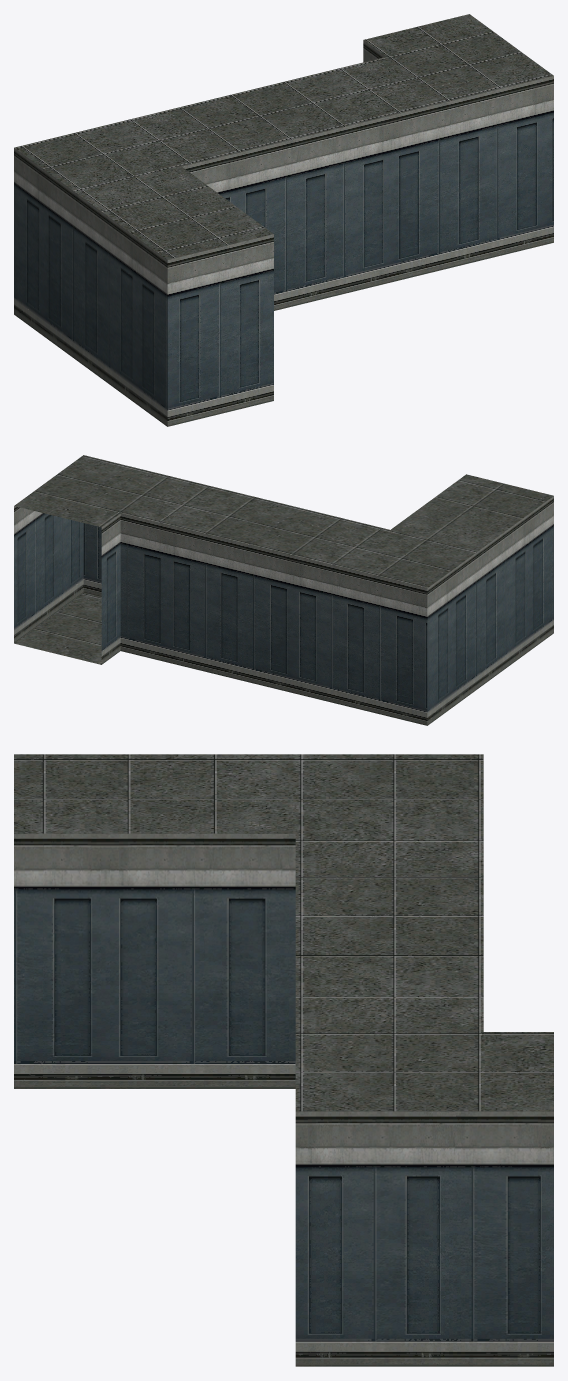
File: thm_corl_imprv_building_block_64x32_s01_r5_spawn5_mesh_r5.fbx
3 renders of one model, top to bottom at view 1: azimuth 30°, elevation 25°; view 2: azimuth 150°, elevation 25°; view 3: azimuth 270°, elevation 25°, orthographic. The views are drawn at different scales.
Visible parts, largest first — view 1: mesh_node; view 2: mesh_node; view 3: mesh_node.
Boxes of the visible parts, bbox=[...] form: mesh_node: bbox=[14, 14, 553, 426]; mesh_node: bbox=[14, 455, 553, 725]; mesh_node: bbox=[14, 754, 553, 1366].
Size of the model in its own units: 9 by 3 by 5.75.
